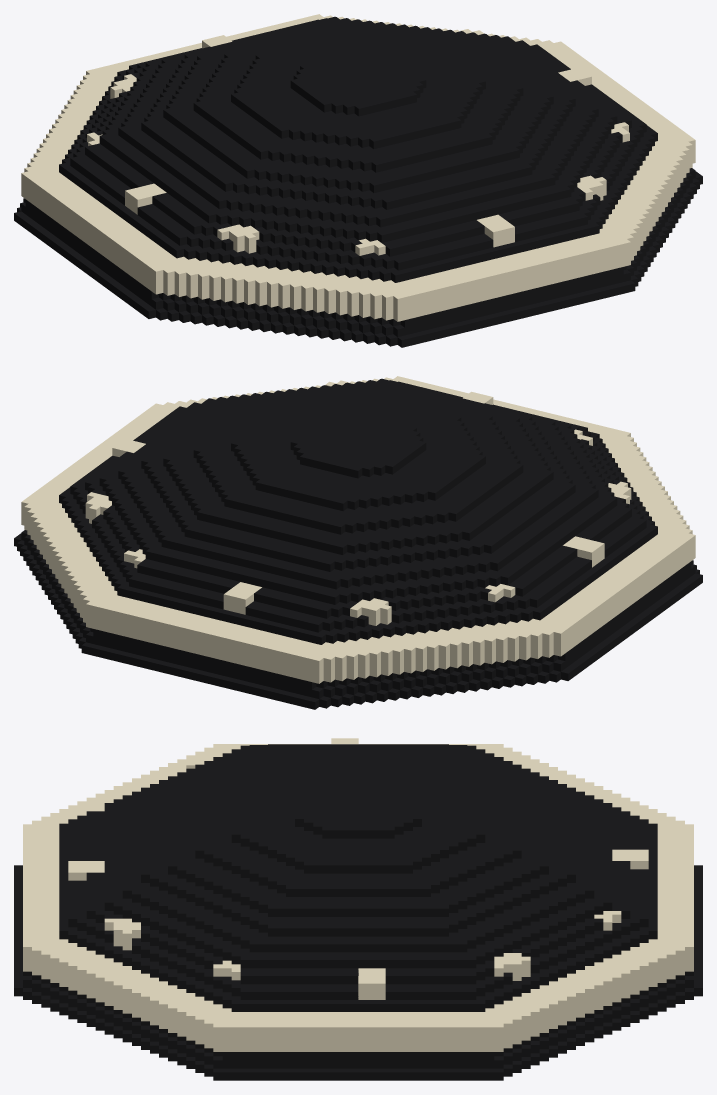
File: kippah.glb
The picture shows the model from 3 angles, top to bottom: view 1: azimuth 30°, elevation 25°; view 2: azimuth 150°, elevation 25°; view 3: azimuth 270°, elevation 25°; orthographic projection. The views are drawn at different scales.
Parts seen in each view (by area): view 1: kippah:compound; view 2: kippah:compound; view 3: kippah:compound.
Part boxes in pixels (x1,y1,x2,y2): kippah:compound: (14, 14, 702, 347); kippah:compound: (14, 376, 702, 709); kippah:compound: (14, 738, 702, 1080).
Size of the model in its own units: 0.152 by 0.032 by 0.152.
